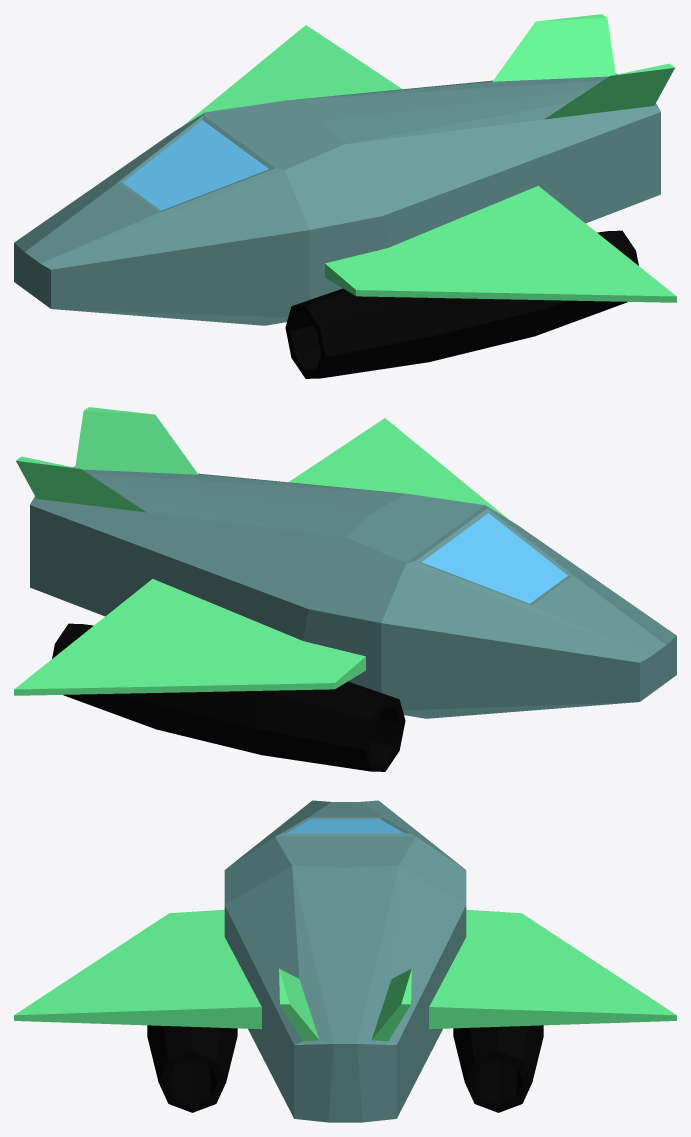
File: explorer1.fbx
The picture shows the model from 3 angles, top to bottom: view 1: azimuth 30°, elevation 25°; view 2: azimuth 150°, elevation 25°; view 3: azimuth 270°, elevation 25°; orthographic projection. The views are drawn at different scales.
Visible parts, largest first — view 1: Explorer; view 2: Explorer; view 3: Explorer.
Part boxes in pixels (bbox=[...]): Explorer: bbox=[14, 14, 676, 378]; Explorer: bbox=[14, 407, 676, 771]; Explorer: bbox=[14, 800, 676, 1122].
Size of the model in its own units: 520 by 156 by 549.
